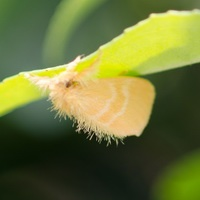insect: (0, 9, 199, 145)
